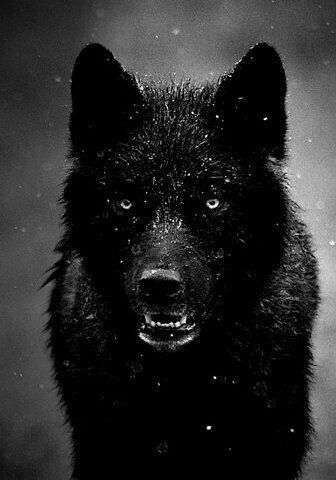Lobo: (49, 36, 296, 368)
